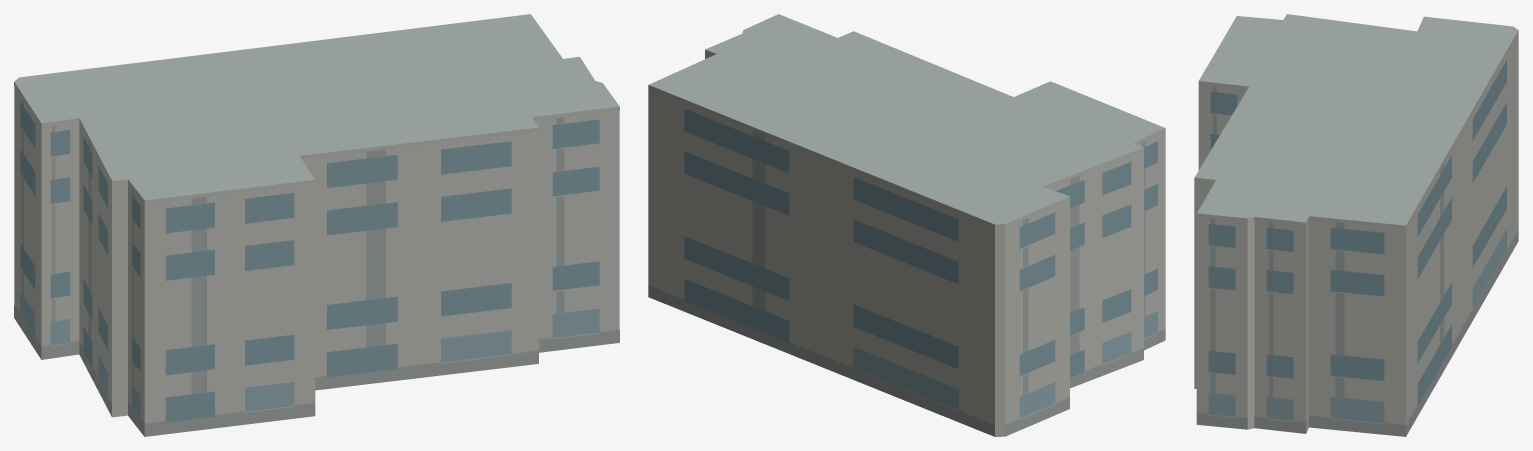
File: survey-upis-32902052.glb
The picture shows the model from 3 angles, left to right: view 1: azimuth 30°, elevation 25°; view 2: azimuth 150°, elevation 25°; view 3: azimuth 270°, elevation 25°; orthographic projection. The views are drawn at different scales.
Parts seen in each view (by area): view 1: survey-upis-32902052.tmp; view 2: survey-upis-32902052.tmp; view 3: survey-upis-32902052.tmp.
Part boxes in pixels (x1,y1,x2,y2): survey-upis-32902052.tmp: (14,14,619,436); survey-upis-32902052.tmp: (648,14,1165,436); survey-upis-32902052.tmp: (1194,14,1518,436).
Bounding box in the file's own units: 32.77 × 15.25 × 21.21.
